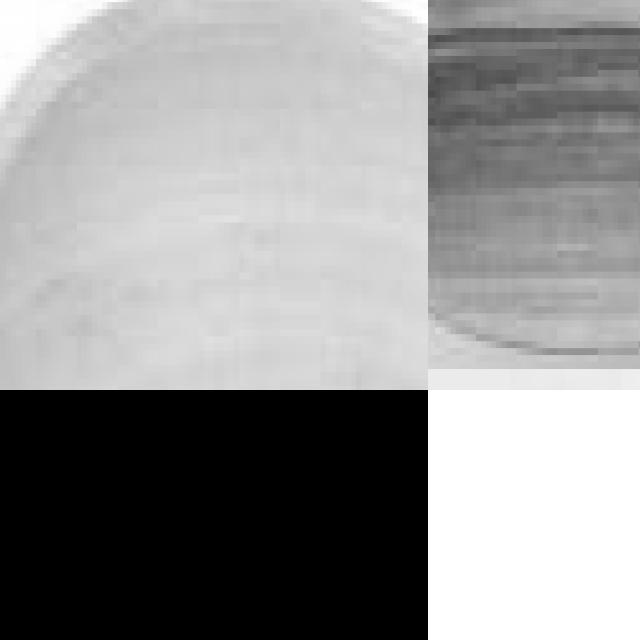spoons: (0, 0, 428, 390), (428, 0, 640, 348)
